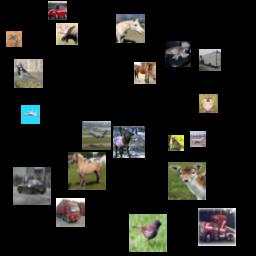airplane: (82, 121, 111, 150), (21, 105, 40, 124), (190, 131, 206, 147)
automobile: (13, 167, 51, 205), (48, 1, 67, 20)
bird: (129, 214, 167, 252), (14, 59, 43, 88), (6, 31, 22, 47)
cat: (165, 41, 191, 67), (168, 135, 184, 151)
deer: (168, 162, 206, 200), (113, 126, 145, 158), (56, 23, 78, 45)
dog: (199, 94, 218, 113)
truck: (198, 208, 236, 246), (56, 198, 85, 227), (199, 49, 221, 71)
